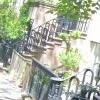stairs: (16, 21, 73, 60)
